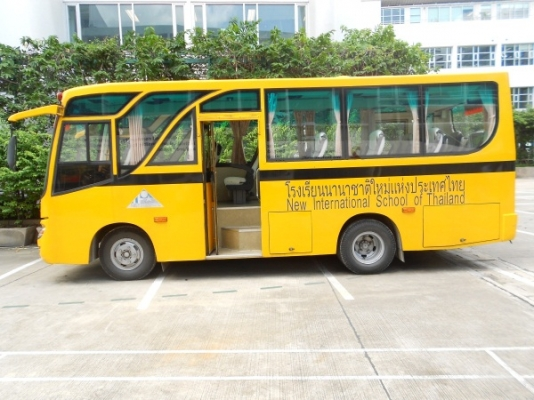bus: (33, 71, 519, 280)
